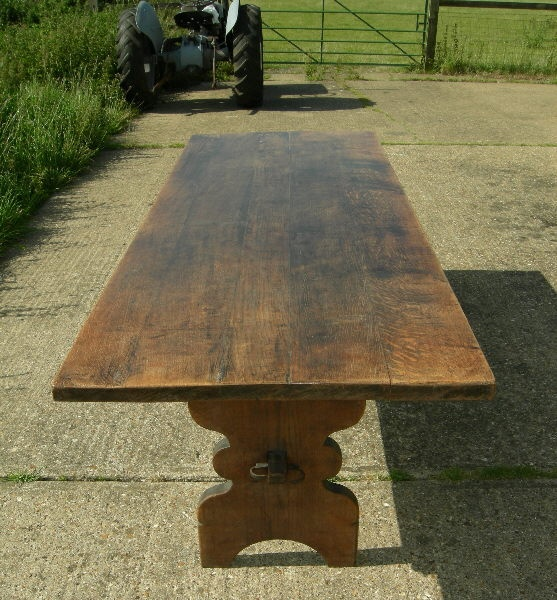obstacle: (53, 131, 494, 566), (116, 0, 262, 108)
